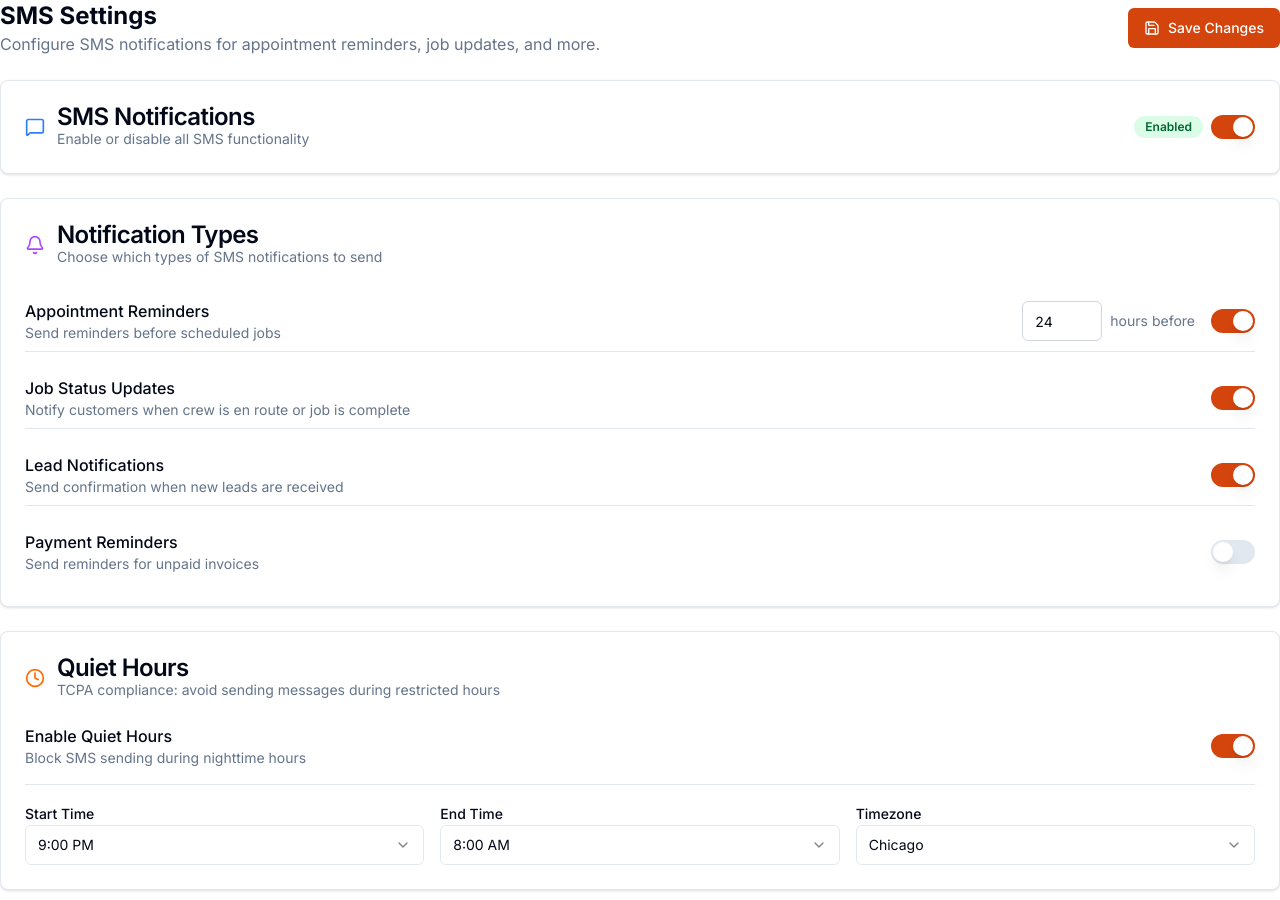
SmsSettingsPage › displays success message after saving
The width and height of the screenshot is (1280, 900).
What coordinates should you click on to do the following:
click the button "Save Changes"
I would click on:
 (1204, 28)
Its box is [1128,8,1279,48].
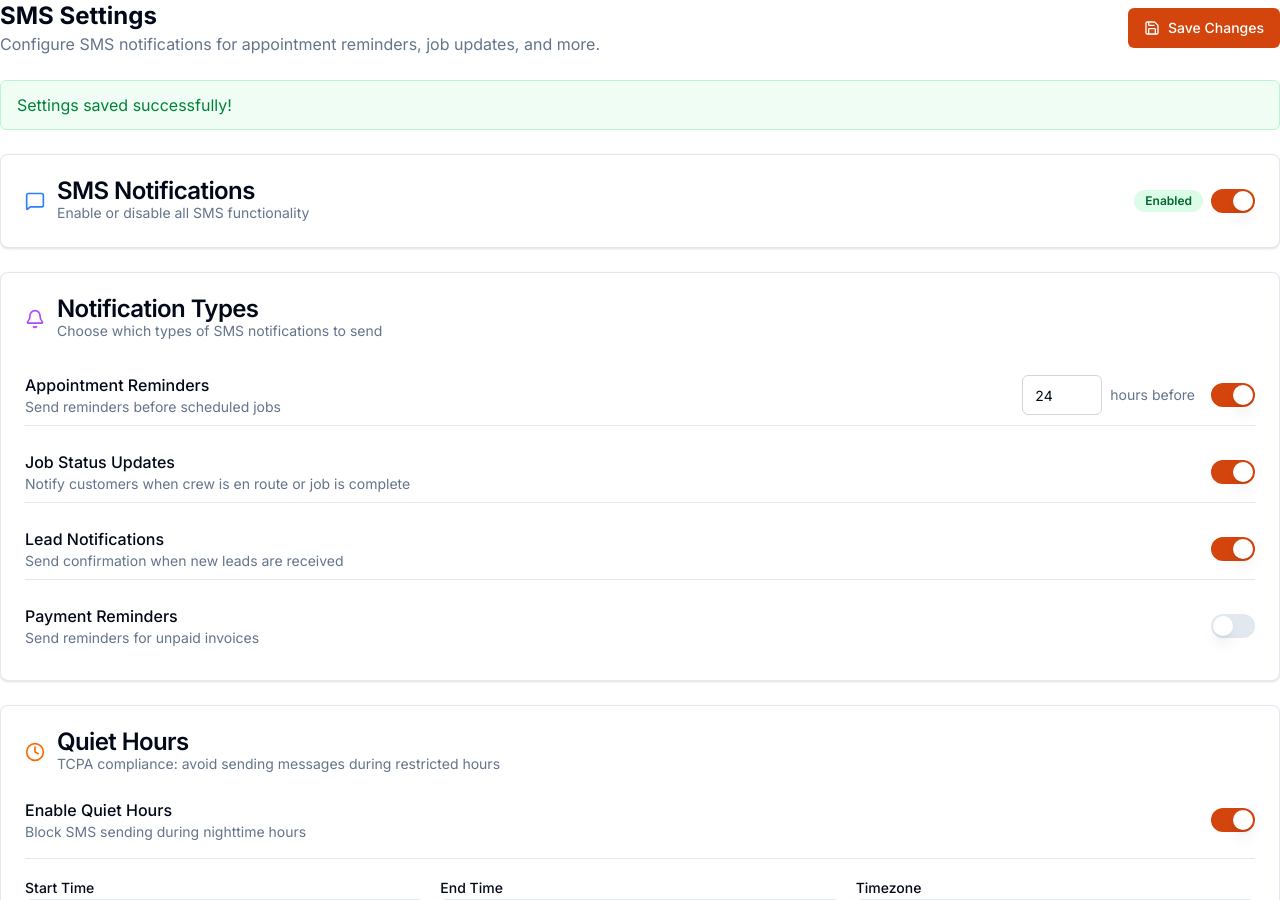
Now the text "Settings saved successfully!" is shown, box [0,80,1279,130]
